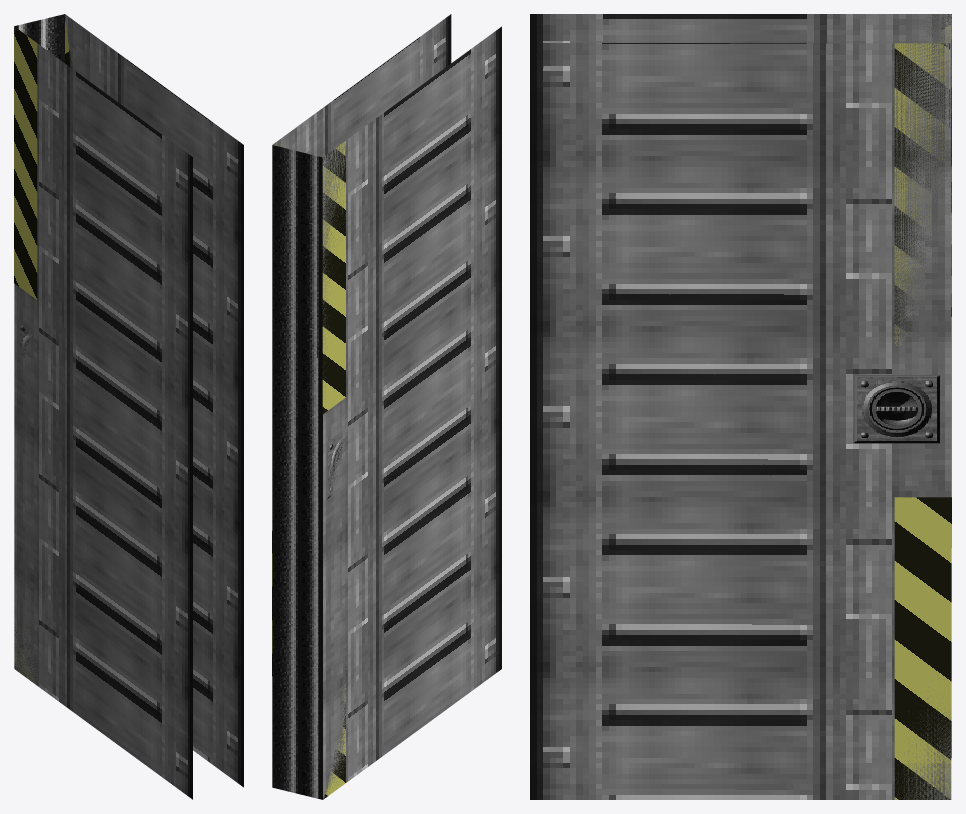
File: primary_184.glb
3 renders of one model, left to right at view 1: azimuth 30°, elevation 25°; view 2: azimuth 150°, elevation 25°; view 3: azimuth 270°, elevation 25°, orthographic. The views are drawn at different scales.
Parts seen in each view (by area): view 1: Object; view 2: Object; view 3: Object.
Boxes of the visible parts, left/top/right/bottom form: Object: left=14, top=14, right=243, bottom=799; Object: left=272, top=14, right=501, bottom=799; Object: left=530, top=14, right=951, bottom=799.
Size of the model in its own units: 0.192 by 2.32 by 1.17.
5 materials, 5 textured.
